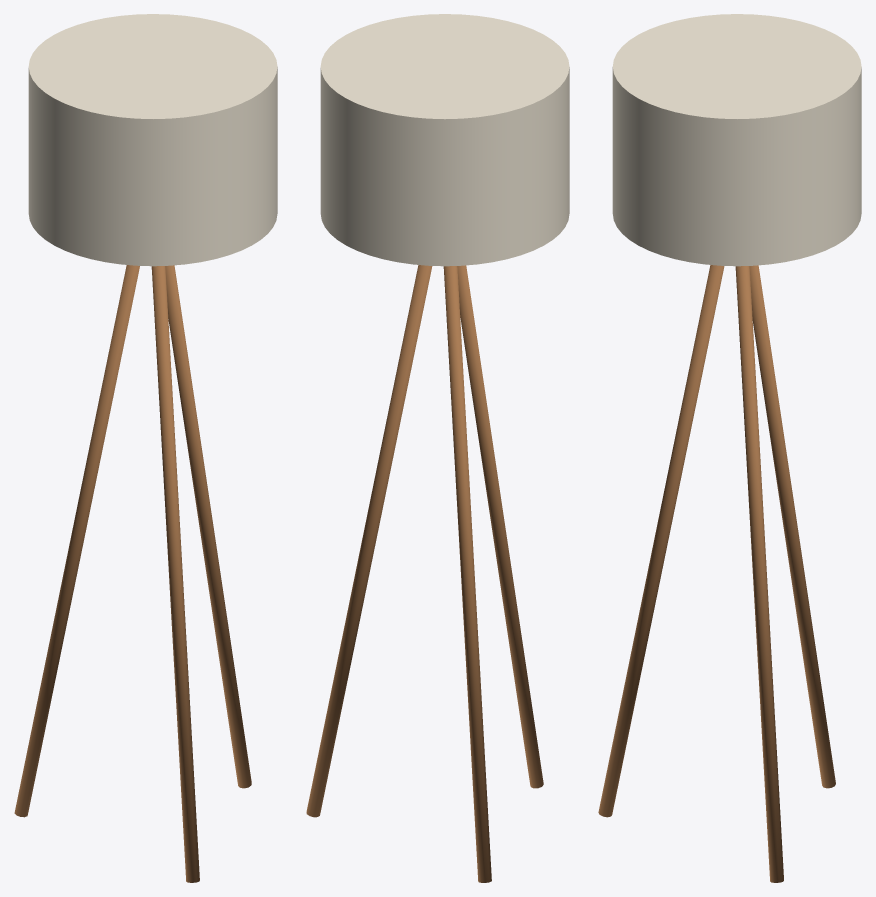
The model's file is lamp_tripod.glb.
3 views of the same model, side by side, from view 1: azimuth 30°, elevation 25°; view 2: azimuth 150°, elevation 25°; view 3: azimuth 270°, elevation 25° (orthographic).
Parts seen in each view (by area): view 1: cyl.001, tube.002, tube.001, tube; view 2: cyl.001, tube.001, tube, tube.002; view 3: cyl.001, tube, tube.002, tube.001.
Part boxes in pixels (left/top/right/bottom): cyl.001: left=28, top=14, right=277, bottom=266; tube.002: left=151, top=266, right=199, bottom=882; tube.001: left=14, top=265, right=139, bottom=817; tube: left=165, top=265, right=251, bottom=788; cyl.001: left=320, top=14, right=569, bottom=266; tube.001: left=443, top=266, right=491, bottom=882; tube: left=306, top=265, right=432, bottom=817; tube.002: left=457, top=265, right=543, bottom=788; cyl.001: left=612, top=14, right=861, bottom=266; tube: left=735, top=266, right=783, bottom=882; tube.002: left=598, top=265, right=724, bottom=817; tube.001: left=749, top=265, right=835, bottom=788.
Bounding box in the file's own units: 48.1 × 155 × 48.65.
